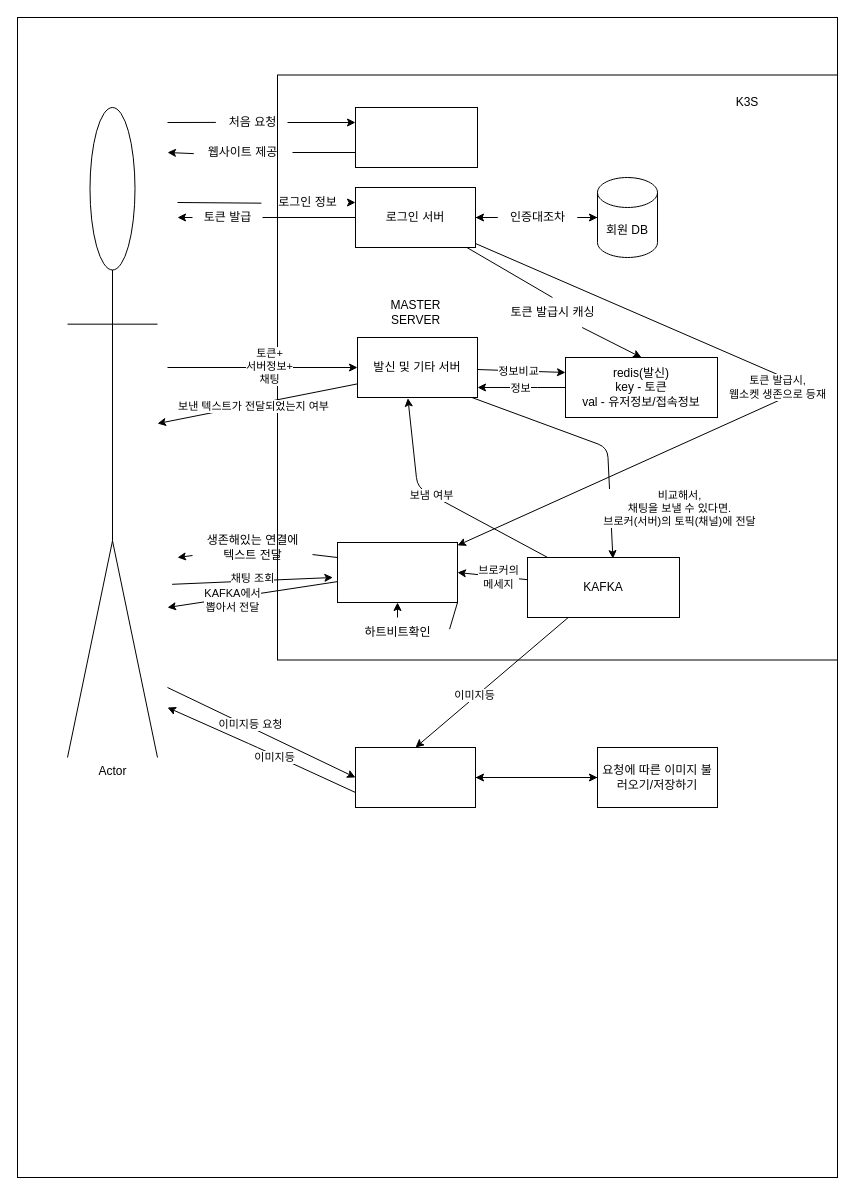
The diagram is 855 pixels wide and 1195 high, and some of its shapes have lost their labels. The box of each missing label's shape, as (x1, y1, x2, y2) in pixels:
CDN서버: (354, 746, 476, 808)
수신서버 받을 수 있는 유저 필터링하여 활성된 연결에 전달: (336, 542, 458, 602)
정적 웹사이트: (354, 106, 478, 168)
